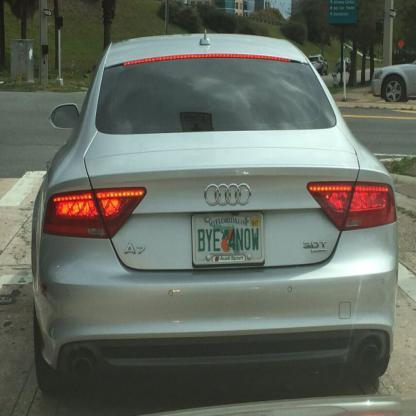License-Plate: (189, 210, 269, 274)
